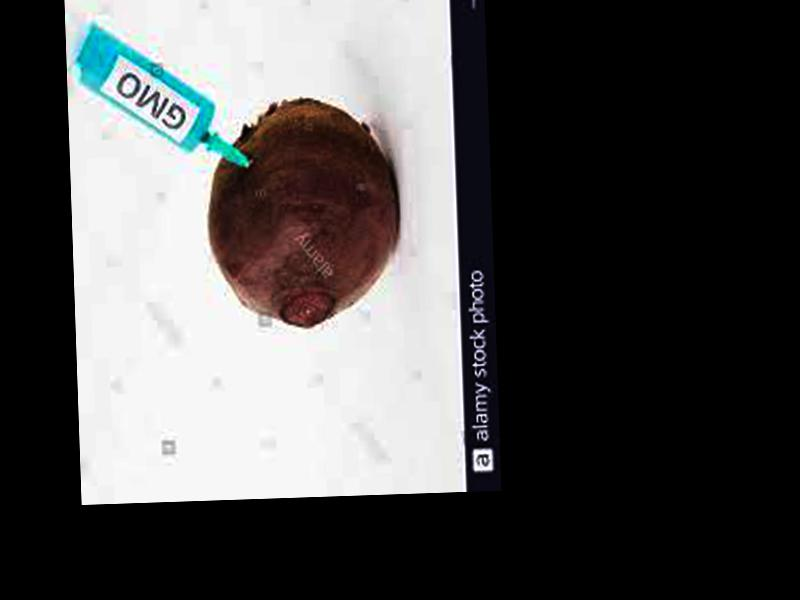Beet: (203, 99, 403, 329)
